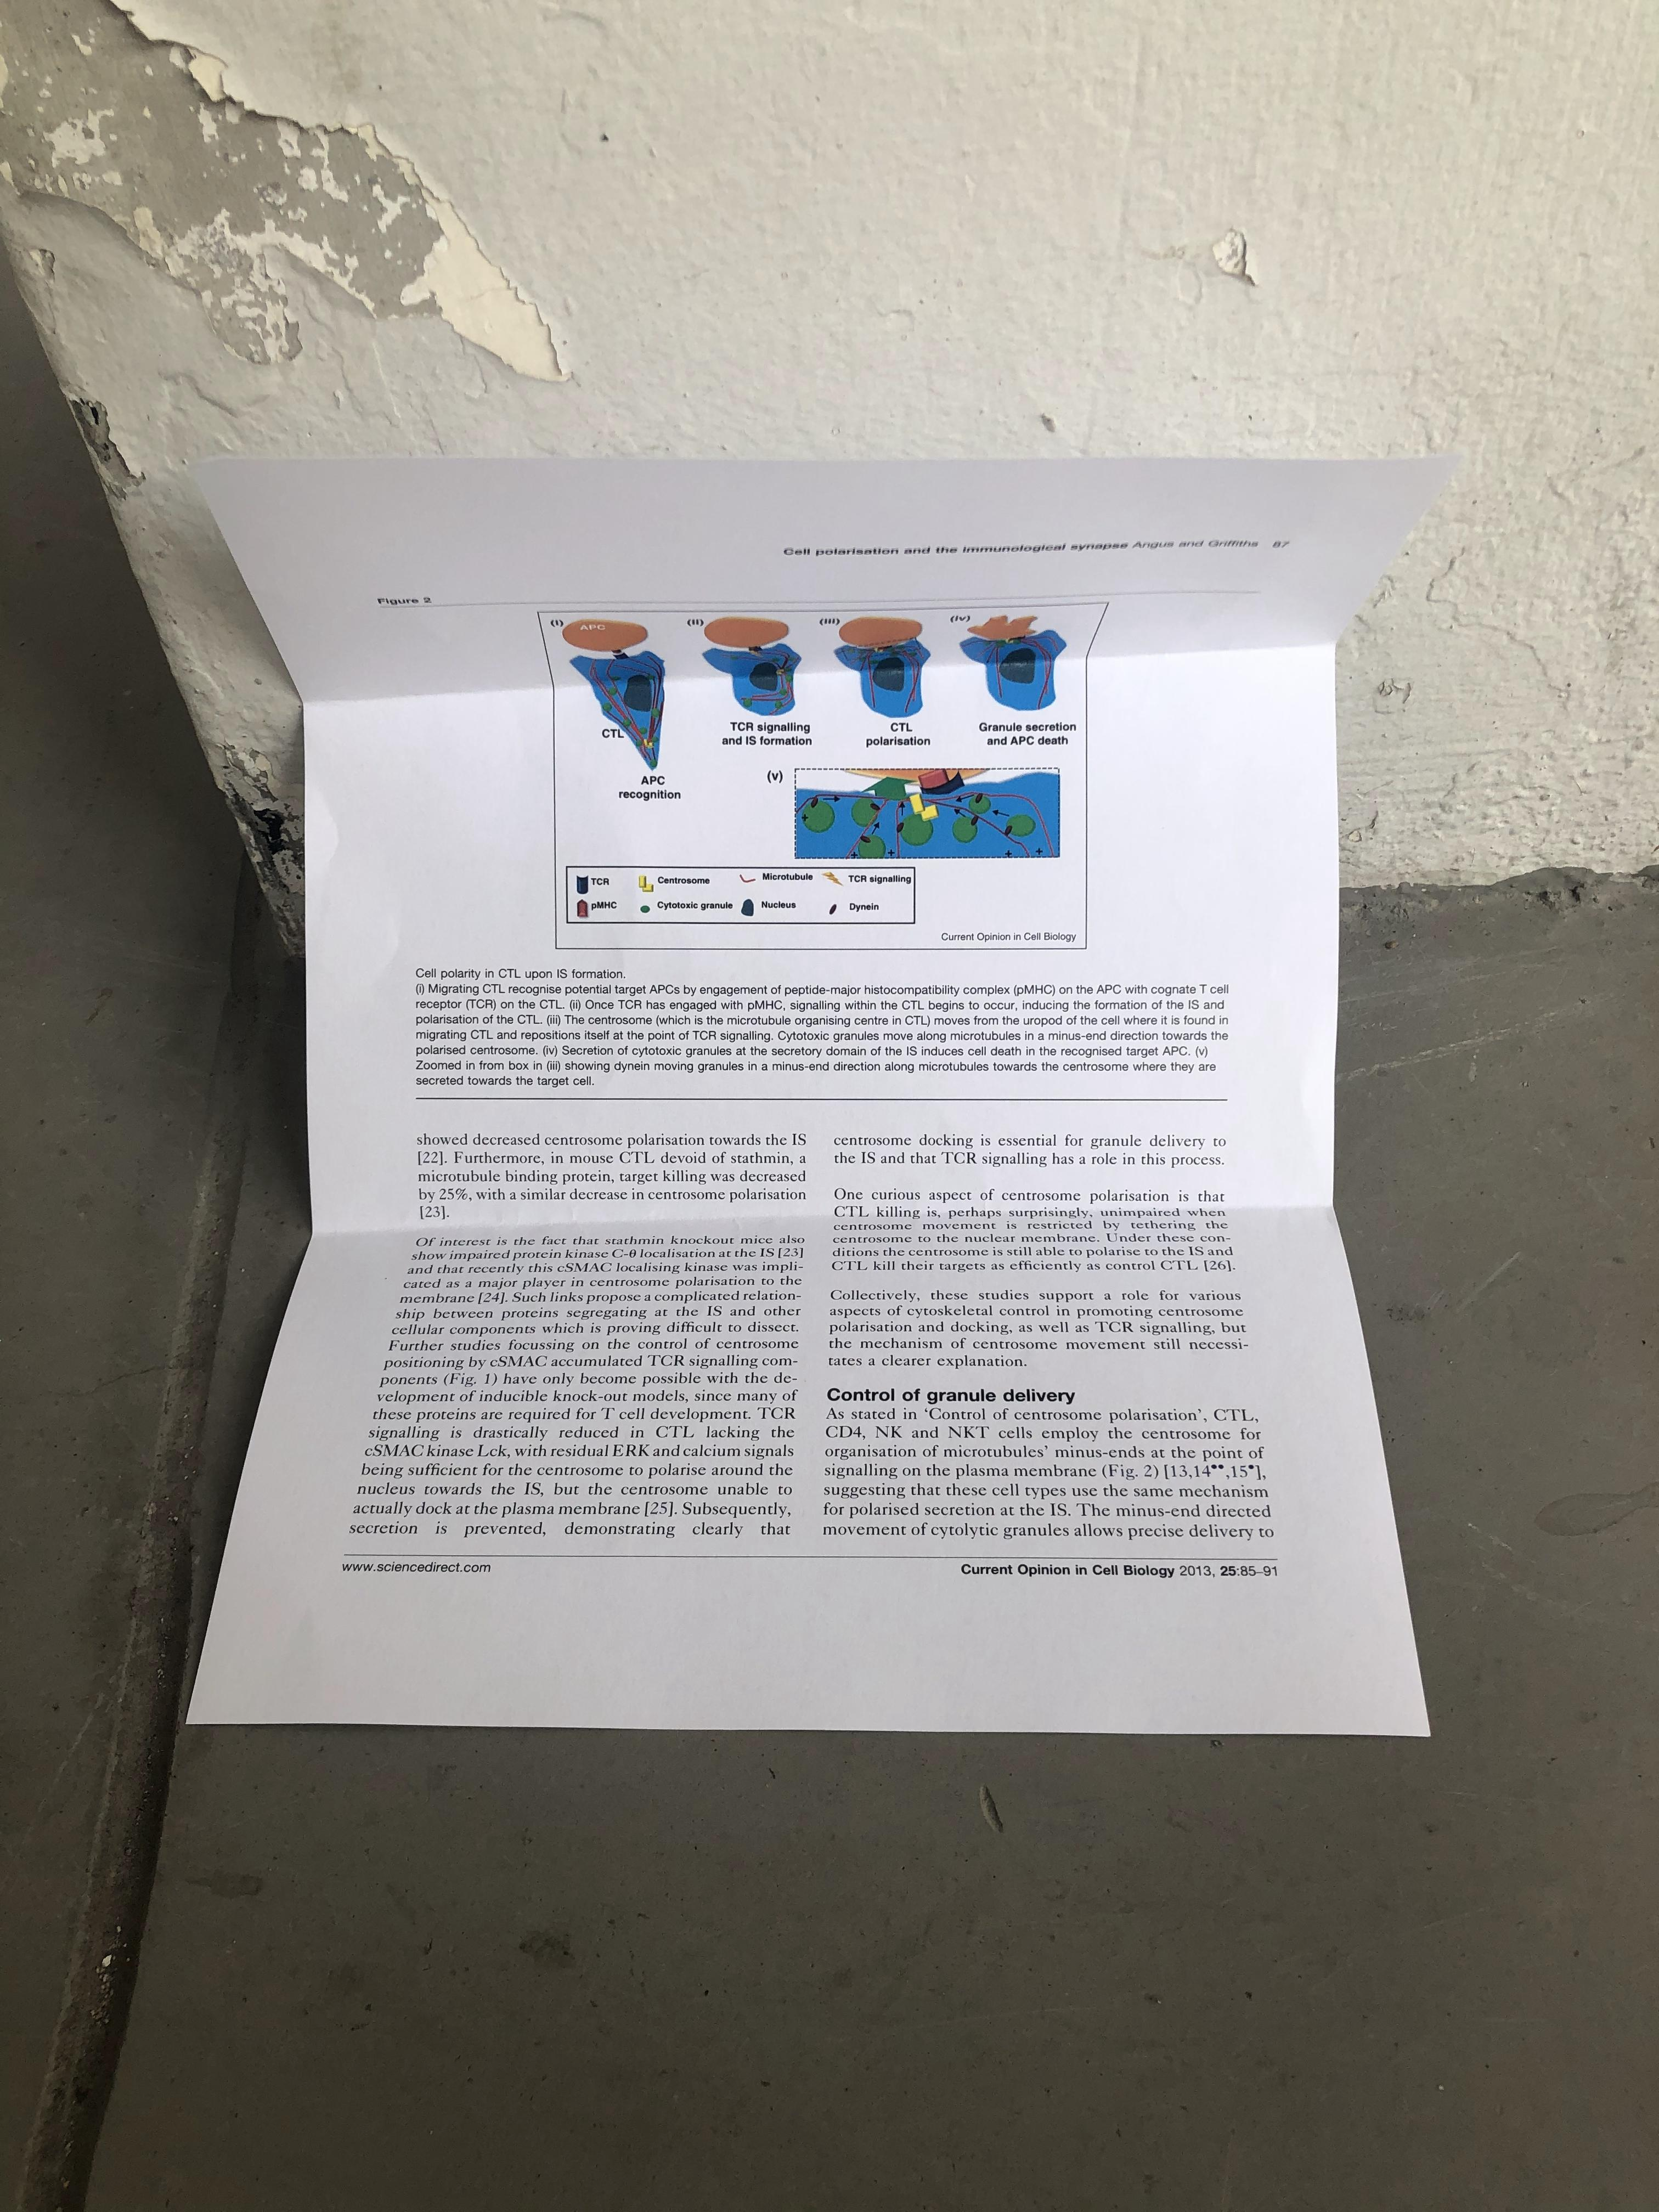paper: (63, 320, 1523, 1879)
